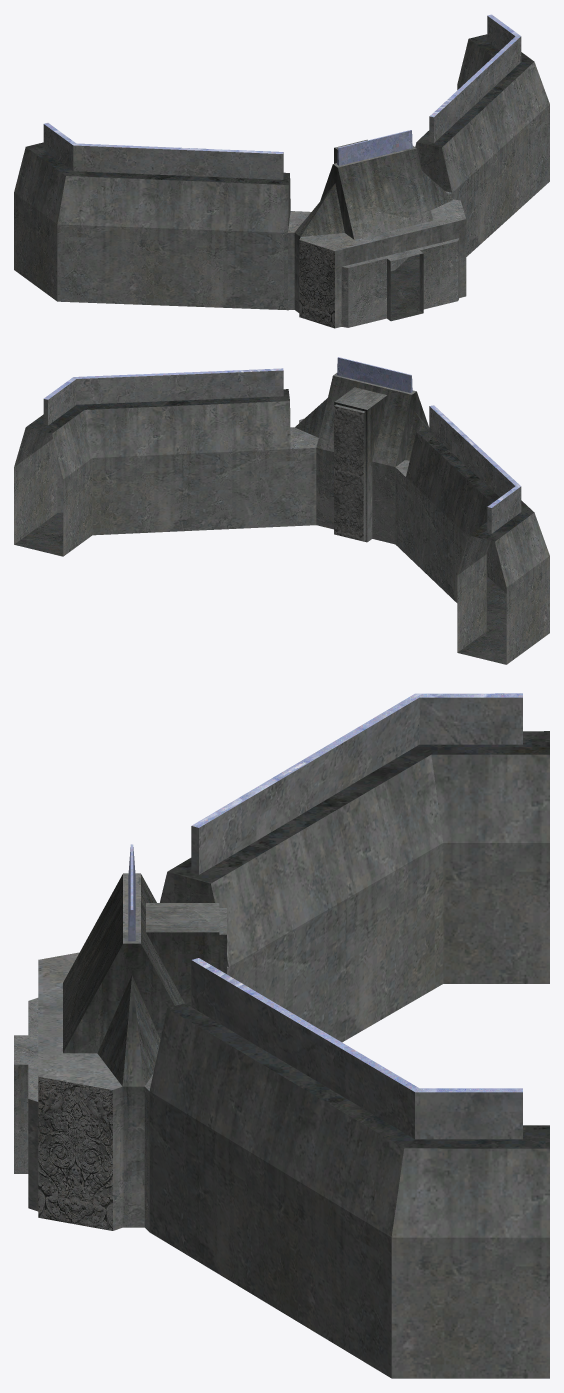
The model's file is thm_yavn_jedi_enclave_dark_r7_foyer_mesh.fbx.
The picture shows the model from 3 angles, top to bottom: view 1: azimuth 30°, elevation 25°; view 2: azimuth 150°, elevation 25°; view 3: azimuth 270°, elevation 25°; orthographic projection. The views are drawn at different scales.
Visible parts, largest first — view 1: mesh_node; view 2: mesh_node; view 3: mesh_node.
Part boxes in pixels (left/top/right/bottom): mesh_node: left=14, top=14, right=549, bottom=328; mesh_node: left=14, top=357, right=549, bottom=664; mesh_node: left=14, top=693, right=549, bottom=1378.
Bounding box in the file's own units: 30 × 9 × 15.5.
